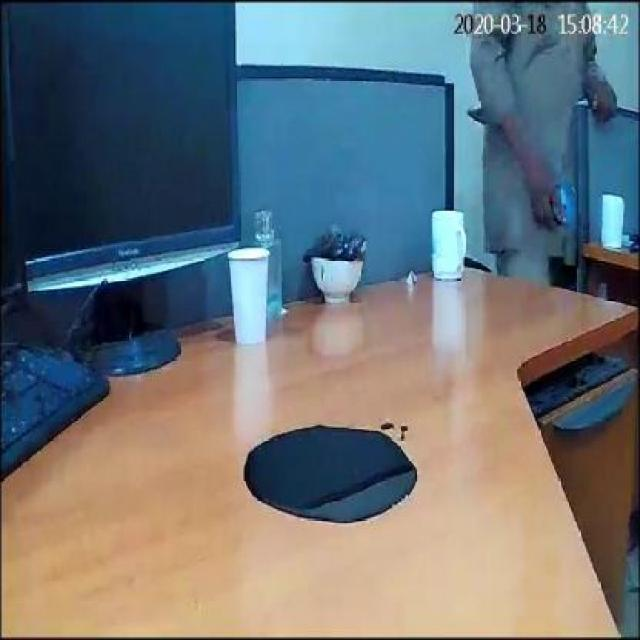spill: (238, 422, 414, 522)
